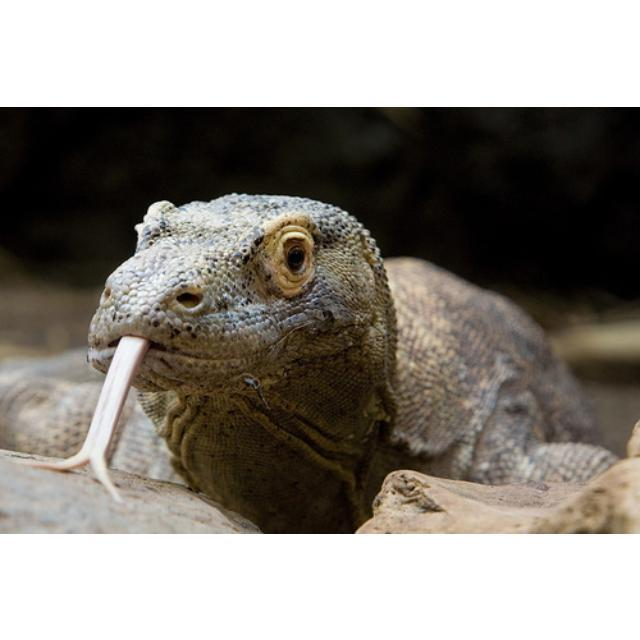KomodoDragon: (8, 188, 622, 520)
